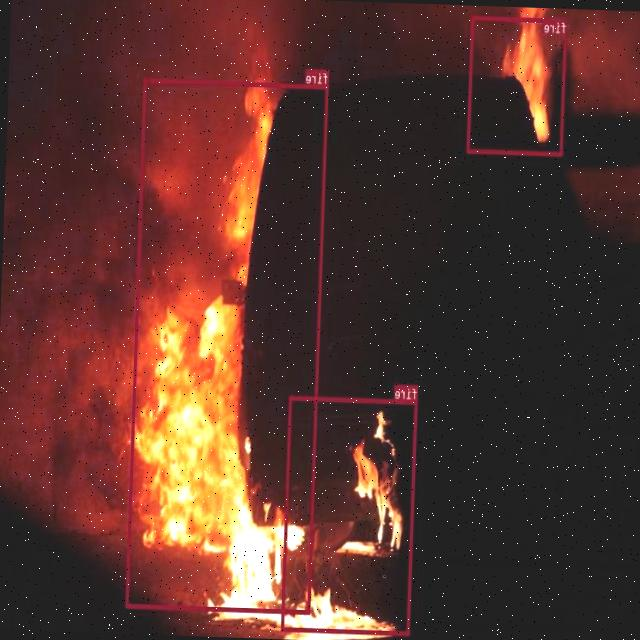fire: (125, 79, 328, 614), (281, 394, 418, 634), (467, 15, 568, 154)
